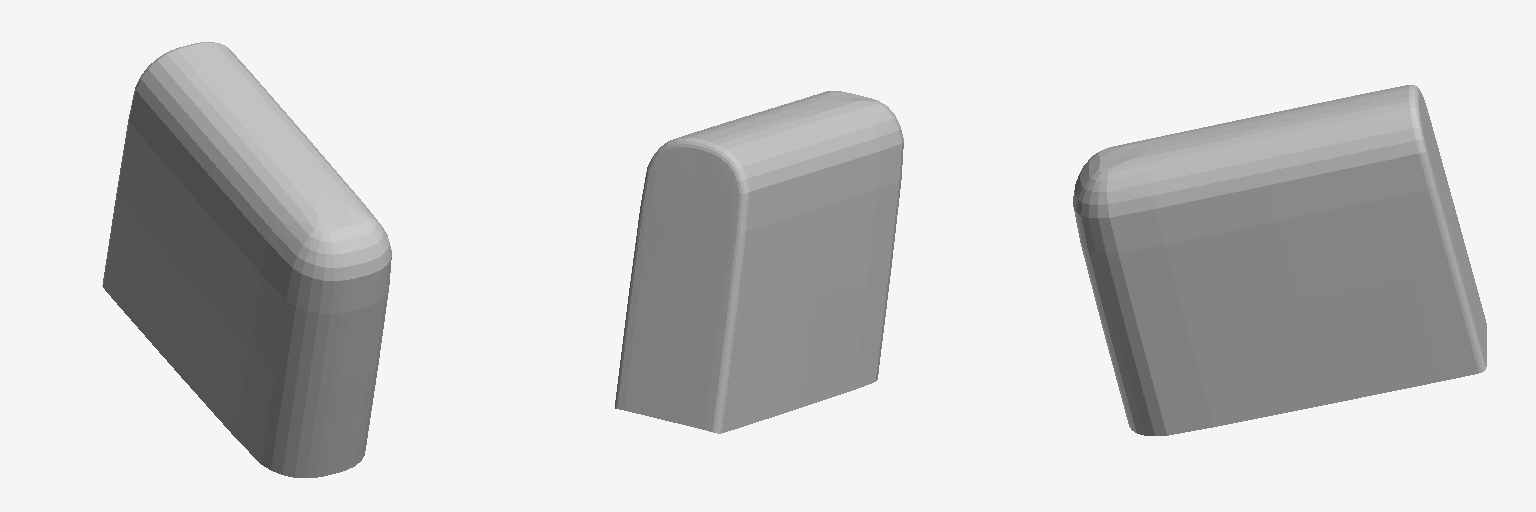
File: original-13.obj
The picture shows the model from 3 angles: view 1: azimuth 30°, elevation 25°; view 2: azimuth 150°, elevation 25°; view 3: azimuth 270°, elevation 25°; orthographic projection.
Visible parts, largest first — view 1: #ID95; view 2: #ID95; view 3: #ID95.
Boxes of the visible parts, x1,y1,x2,y2 form: #ID95: [102, 42, 391, 477]; #ID95: [615, 91, 903, 433]; #ID95: [1073, 85, 1486, 435].
Bounding box in the file's own units: 0.0415 × 0.1201 × 0.1381.